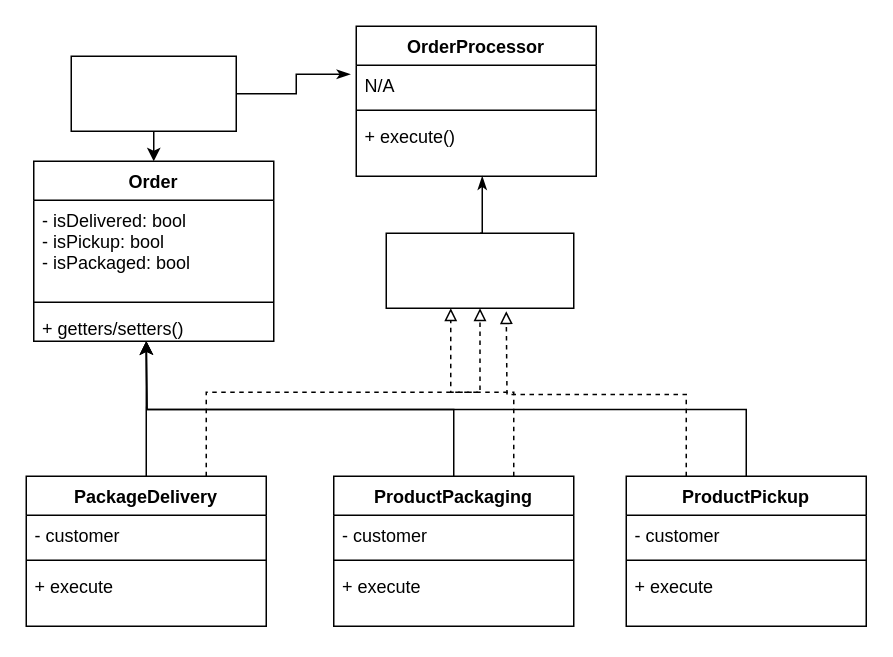
This 893x657 diagram has some shape labels left out. The shapes that lost their labels are listed below. From the top down, each one's centre as x and y in pixels, then its label:
pixel 153 93: Test
pixel 479 270: «interface» OrderProcessing
